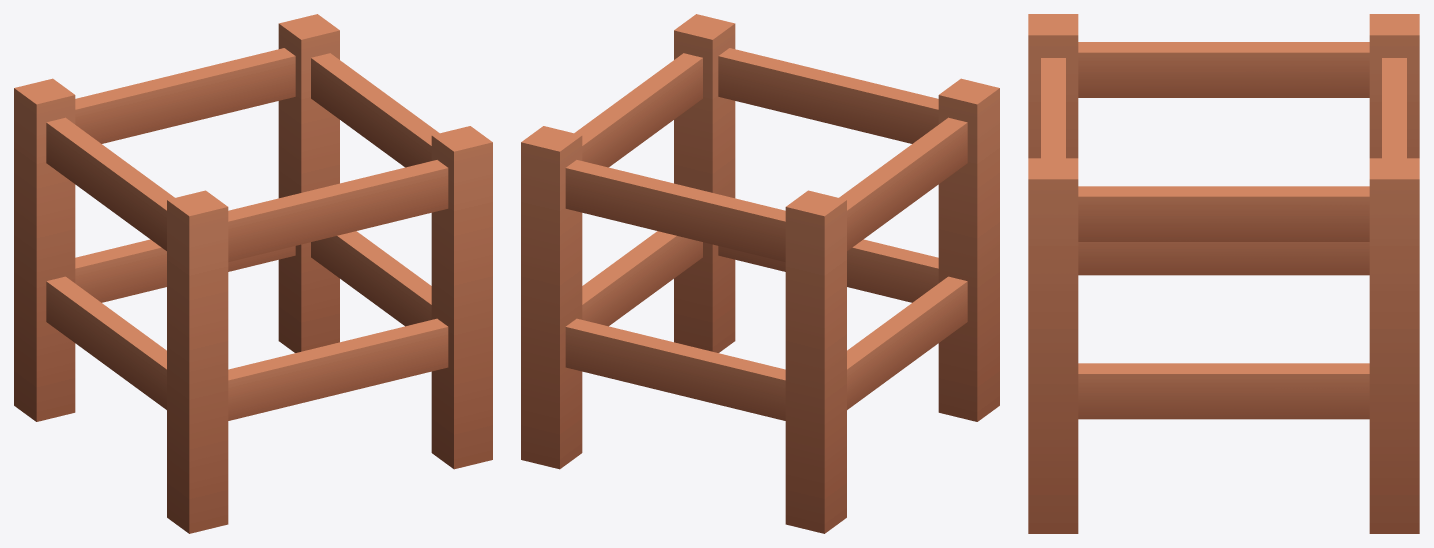
Rendered from wood-structure-high.glb.
The picture shows the model from 3 angles, left to right: view 1: azimuth 30°, elevation 25°; view 2: azimuth 150°, elevation 25°; view 3: azimuth 270°, elevation 25°; orthographic projection. The views are drawn at different scales.
Parts seen in each view (by area): view 1: wood-structure-high; view 2: wood-structure-high; view 3: wood-structure-high.
Part boxes in pixels (bbox=[...]): wood-structure-high: bbox=[14, 14, 492, 533]; wood-structure-high: bbox=[521, 14, 999, 533]; wood-structure-high: bbox=[1028, 14, 1419, 533].
Bounding box in the file's own units: 1 × 1 × 1.
Materials: 1 (1 with a texture image).
